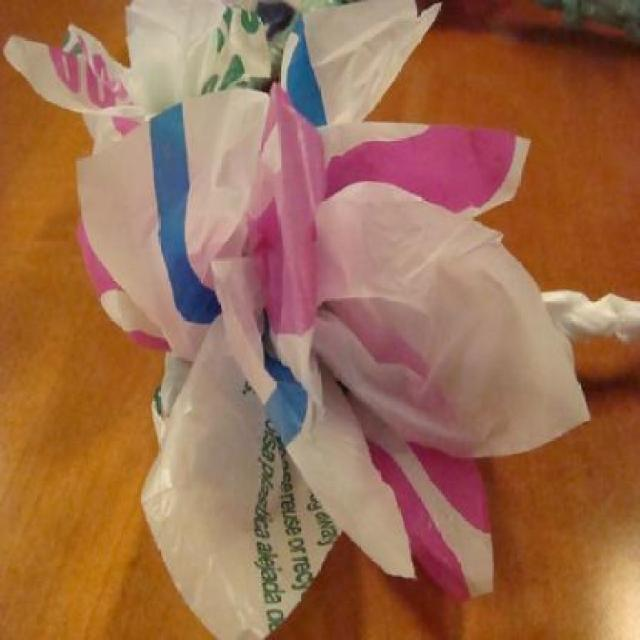plastic bag: (8, 0, 637, 626)
